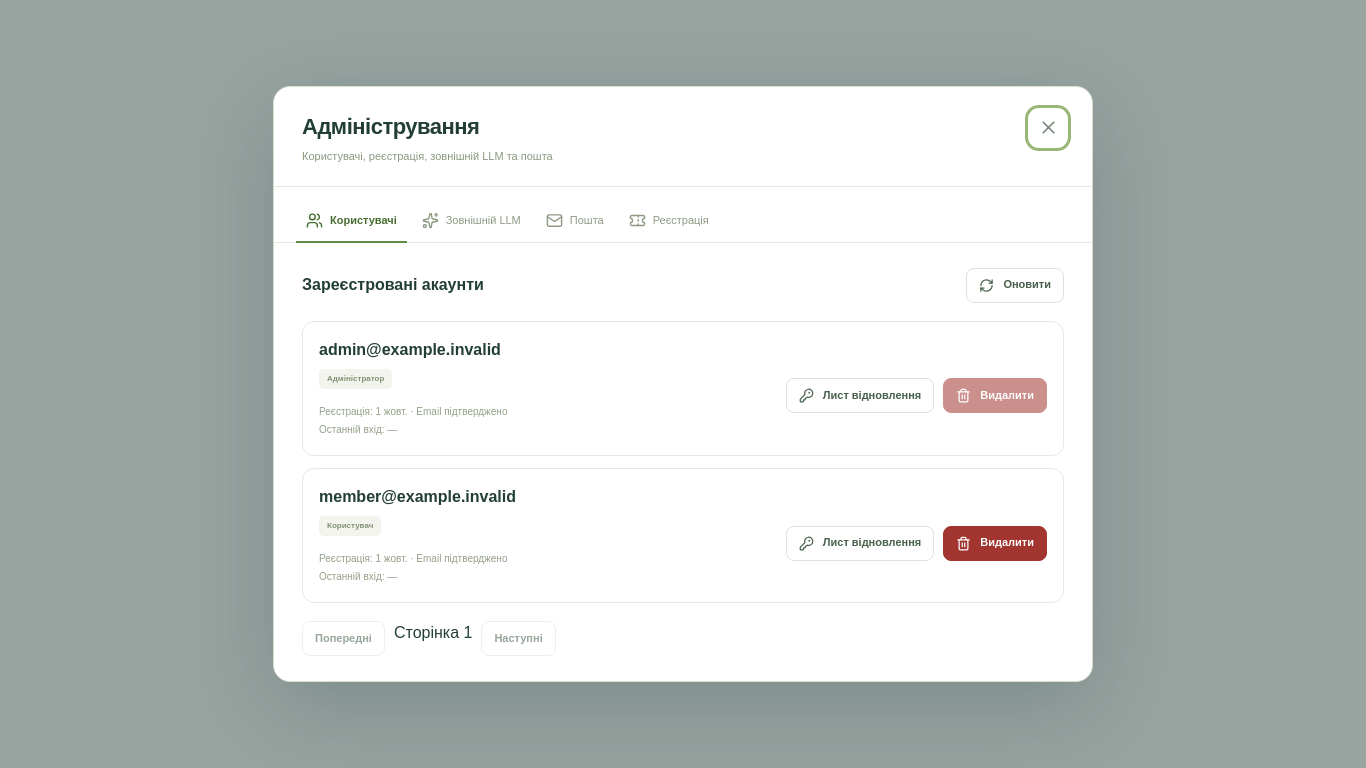
reports a failed rules check without hiding the LLM settings
This screenshot has width=1366, height=768.
Click the tab "Зовнішній LLM". click: (471, 221)
box: [412,200,531,243]
(page scrolled)
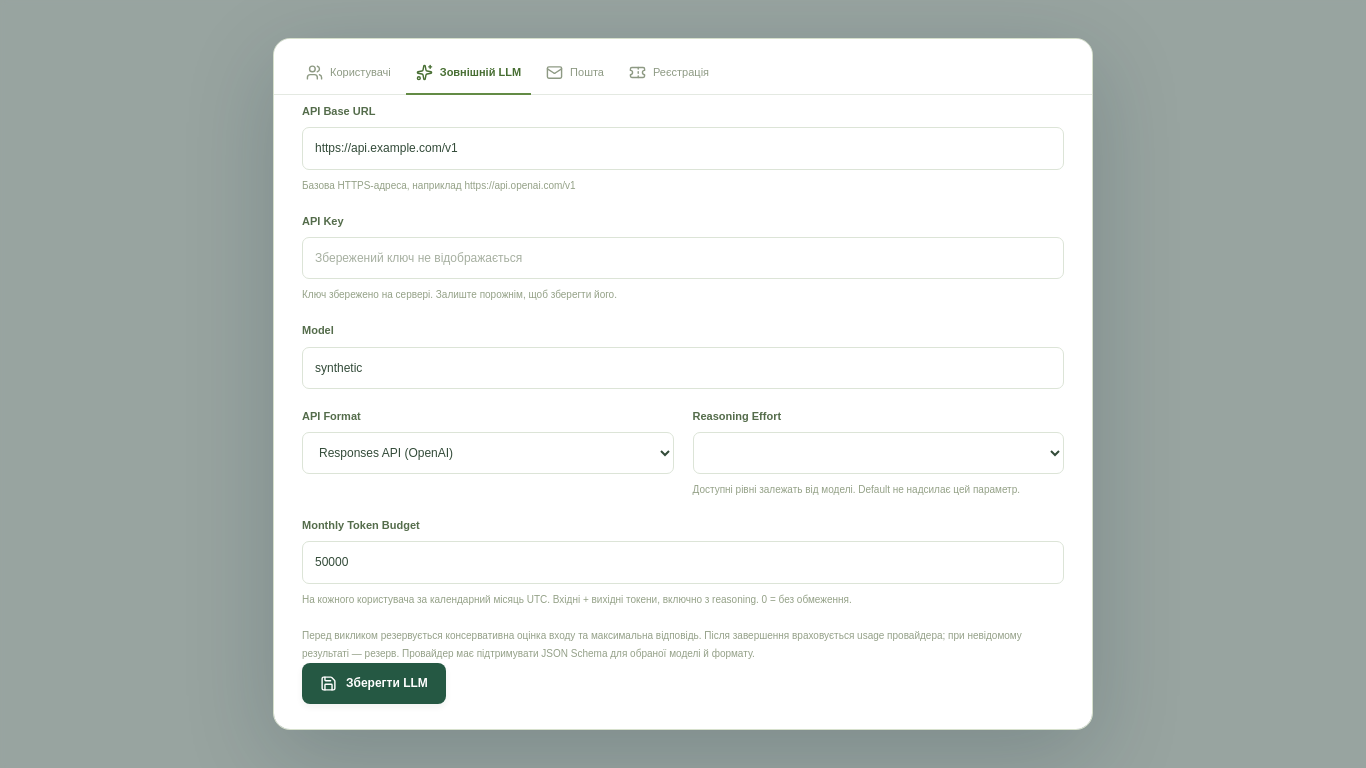
Expected: the message with class "notice" reads "Не вдалося перевірити версію правил jobsearch-api: Сервіс тимчасово недоступний.", [320,51,753,63]
Expected: the form is shown, [302,103,1064,704]
